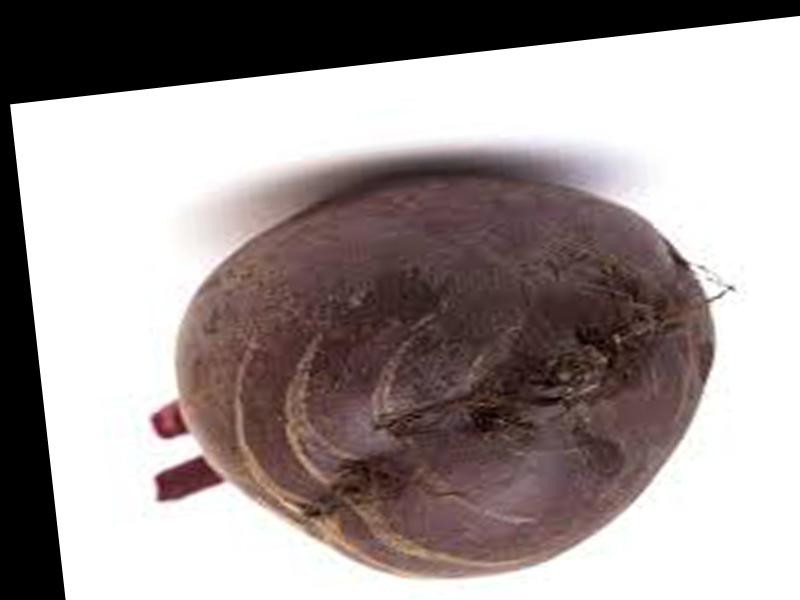Beet: (128, 137, 740, 600)
